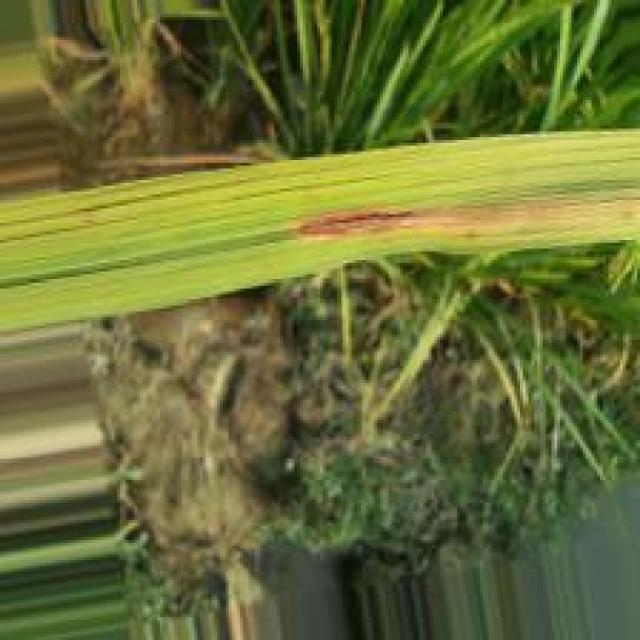Leaf_Blast: (290, 205, 432, 241)
